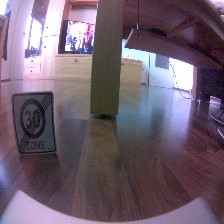dreisiger_zone_ende: (11, 92, 57, 155)
